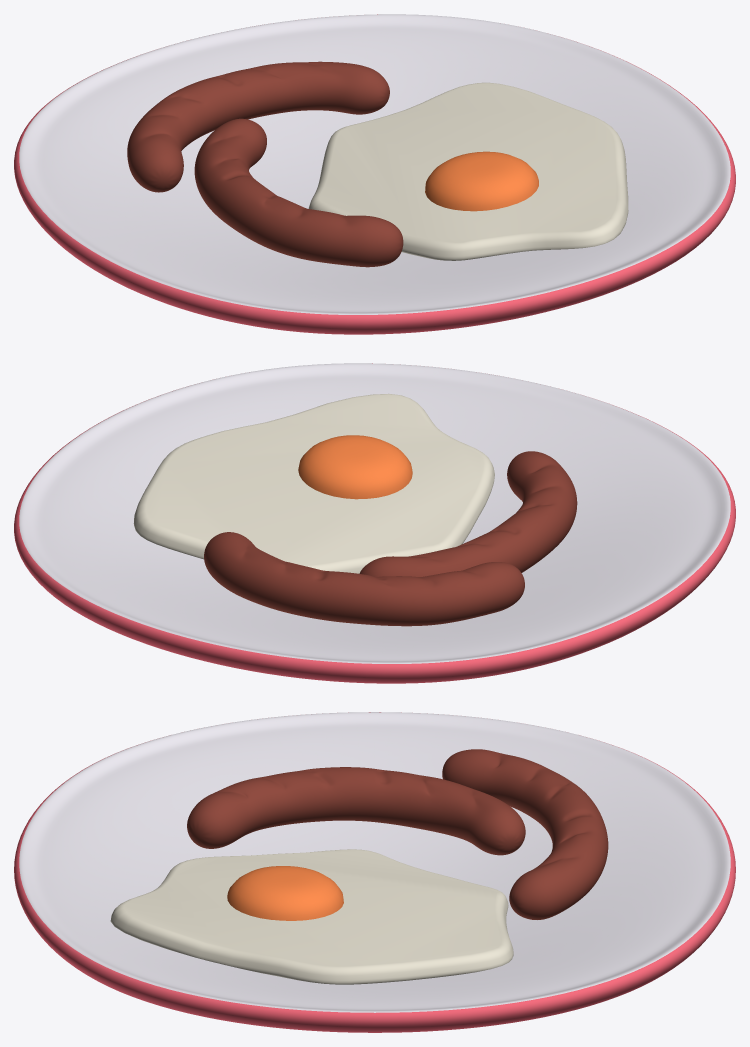
The model's file is breakfast.glb.
3 views of the same model, one above another, from view 1: azimuth 30°, elevation 25°; view 2: azimuth 150°, elevation 25°; view 3: azimuth 270°, elevation 25° (orthographic). The views are drawn at different scales.
Parts seen in each view (by area): view 1: Plane; view 2: Plane; view 3: Plane.
Part boxes in pixels (left/top/right/bottom): Plane: left=14, top=14, right=735, bottom=334; Plane: left=14, top=363, right=735, bottom=683; Plane: left=14, top=712, right=735, bottom=1032.
Size of the model in its own units: 5.94 by 0.6488 by 5.94.
Materials: 5 (5 with a texture image).
